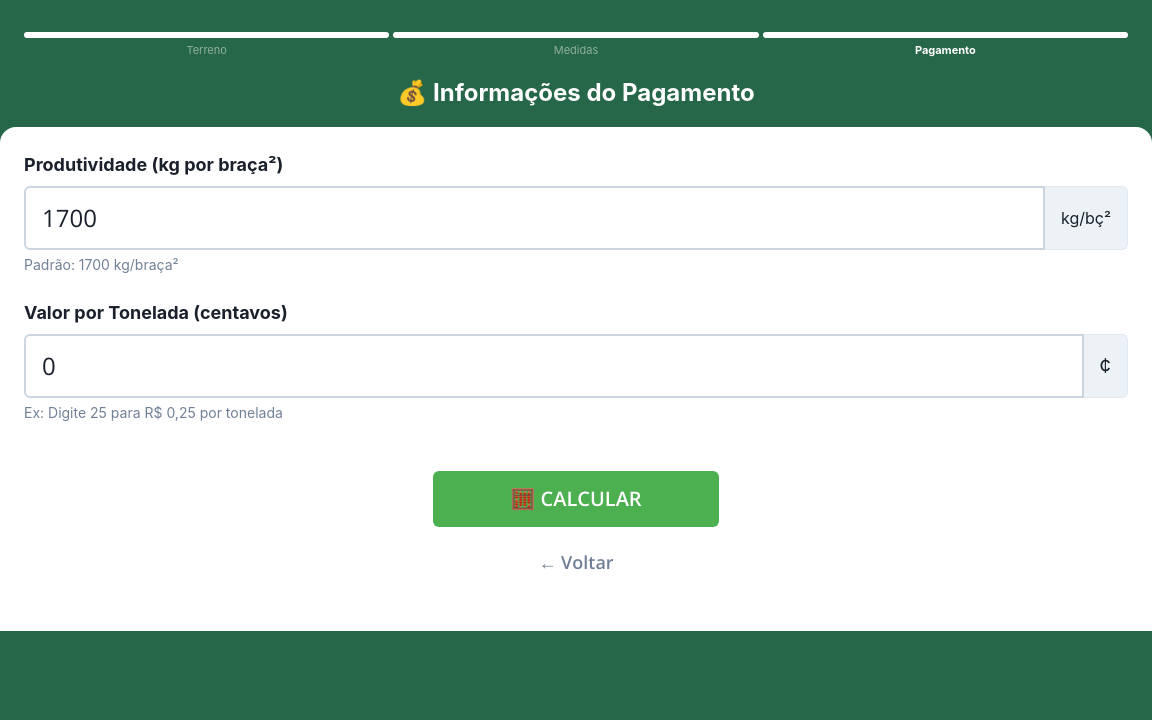
PaymentStep › shows error when valorCentavos is zero and CALCULAR clicked
Click the button "🧮 CALCULAR".
click(576, 498)  # box [433,470,719,526]
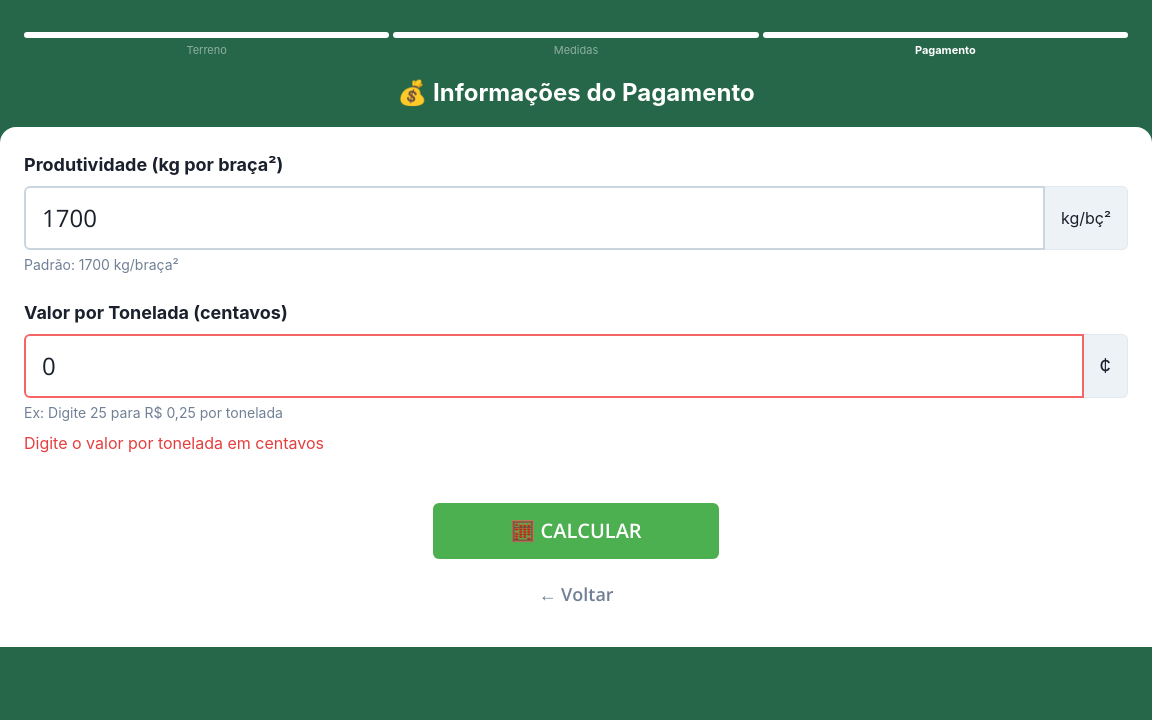
expect the text "Digite o valor por tonelada em centavos" is shown: met, box [24,432,324,452]
